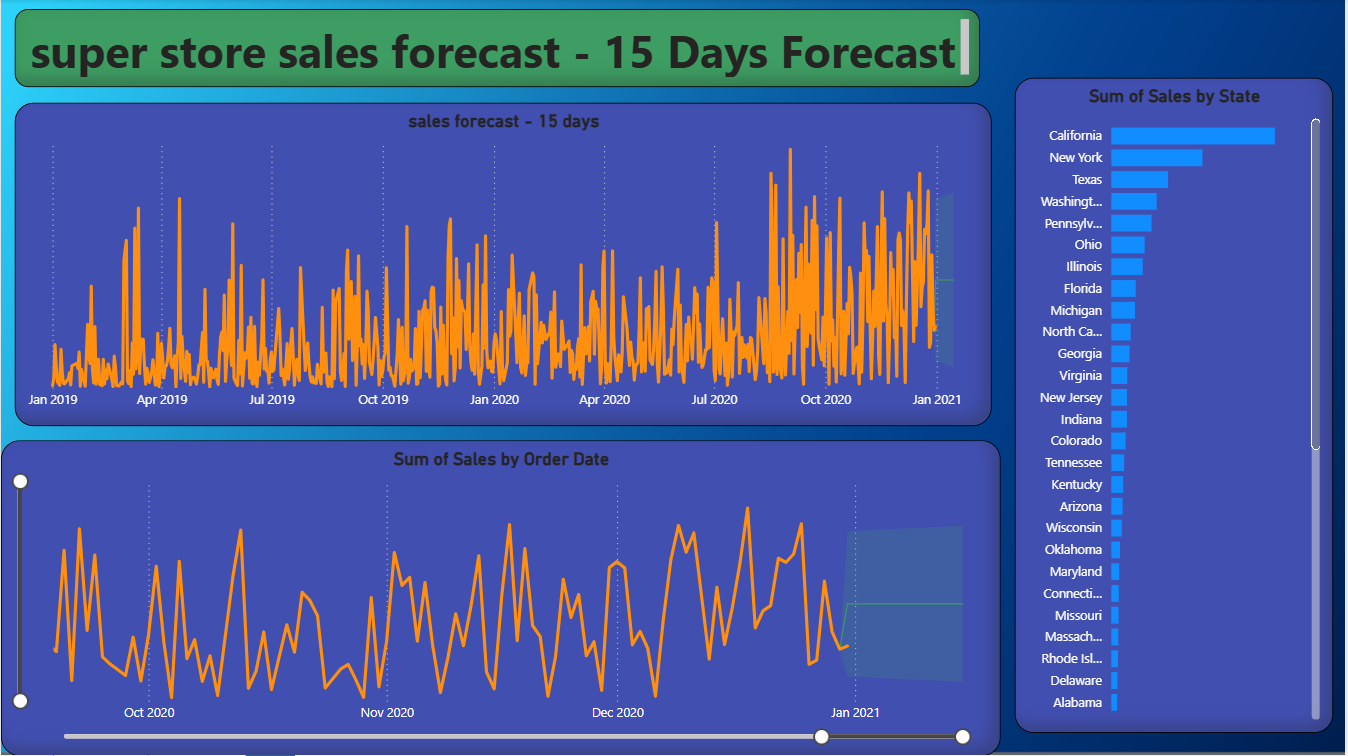

The page's visual inventory and layout, read from the dashboard file:
{"tool":"powerbi","page":{"name":"Page 2","canvas":[1280,720],"ordinal":1},"visuals":[{"type":"lineChart","title":"sales forecast - 15 days","fields":{"Y":["Sum(Sheet1.Sales)"],"Category":["Sheet1.Order Date"]},"box":[13.3,98.9,930.2,307.6],"z":0},{"type":"lineChart","fields":{"Y":["Sum(Sheet1.Sales)"],"Category":["Sheet1.Order Date"]},"box":[0,419.8,951.9,300.4],"z":1000},{"type":"textbox","box":[13.3,9.7,919.3,74.8],"z":2000},{"type":"clusteredBarChart","fields":{"Category":["Sheet1.State"],"Y":["Sum(Sheet1.Sales)"]},"box":[965.2,74.8,302.8,623.7],"z":3000}]}

Visuals, with their boxes in screenshot pixels (x1, y1, x2, y2), scaled from the page's 1280x720 canvas onto the 1348x756 screenshot:
"sales forecast - 15 days" lineChart: <region>14, 104, 994, 427</region>
lineChart - Sum(Sheet1.Sales) x Sheet1.Order Date: <region>0, 441, 1002, 755</region>
textbox: <region>14, 10, 982, 89</region>
clusteredBarChart - Sheet1.State x Sum(Sheet1.Sales): <region>1016, 79, 1335, 733</region>
